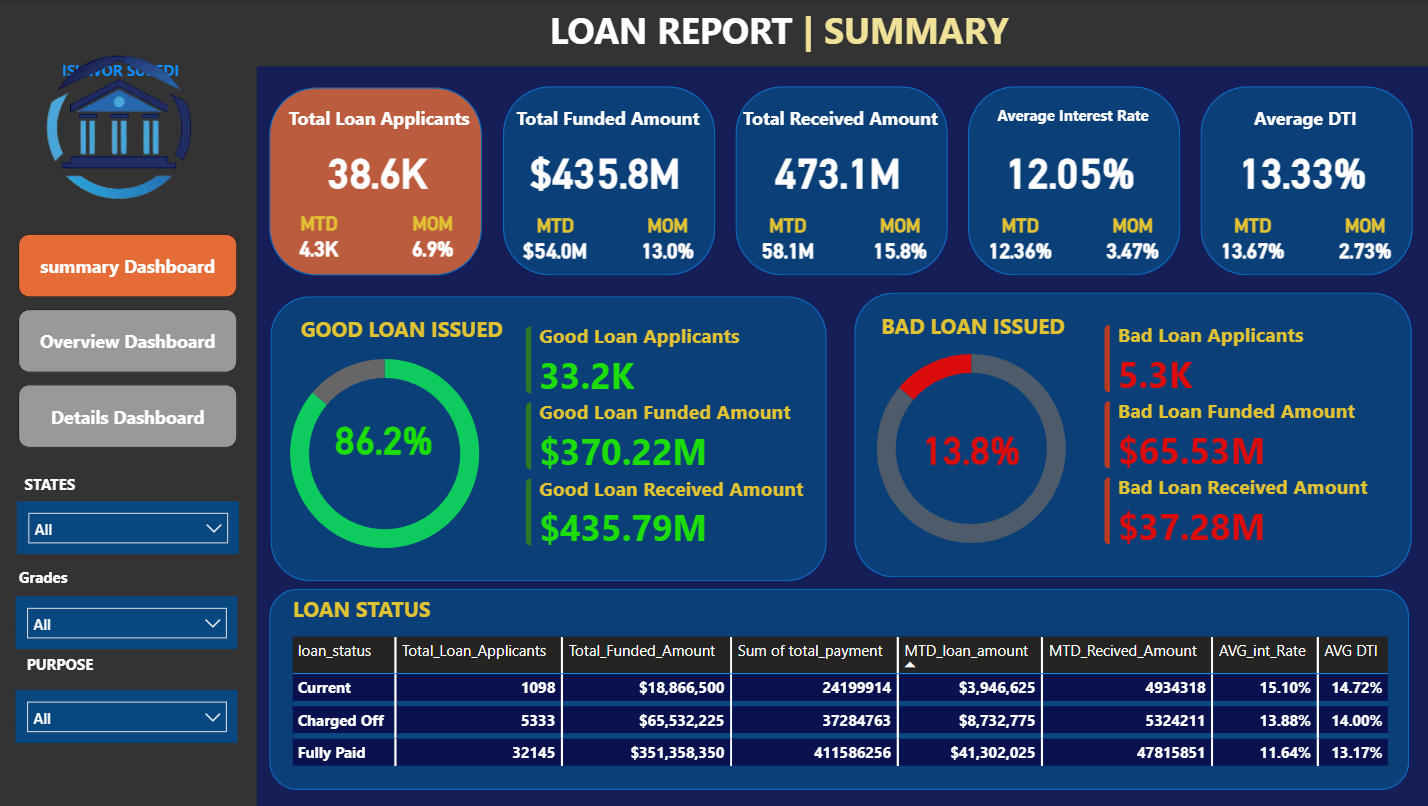

What the dashboard file says about the page in this screenshot:
{"tool":"powerbi","page":{"name":"summary Dashboard","canvas":[1280,720],"ordinal":0},"visuals":[{"type":"shape","box":[0,58.1,231.1,662.2],"z":0},{"type":"shape","box":[450.5,76.5,189.7,169.1],"z":0,"group":"g1"},{"type":"shape","box":[658.4,76.5,189.7,169.1],"z":0,"group":"g2"},{"type":"shape","box":[866.3,76.5,189.7,169.1],"z":0,"group":"g3"},{"type":"shape","box":[1074.2,76.5,189.7,169.1],"z":0,"group":"g4"},{"type":"slicer","fields":{"Values":["loan_data.grade"]},"box":[15.6,532.7,198.8,46.9],"z":0,"group":"g8"},{"type":"shape","box":[0,0,1279.7,59.2],"z":1000},{"type":"shape","box":[242.1,77.7,190,167.9],"z":1000,"group":"g5"},{"type":"card","fields":{"Values":["loan_data.Total_Funded_Amount"]},"box":[467.7,123.2,149,56.7],"z":1000,"group":"g1"},{"type":"card","fields":{"Values":["loan_data.Total Received Amount"]},"box":[675.6,123.2,149,56.7],"z":1000,"group":"g2"},{"type":"card","fields":{"Values":["loan_data.AVG_int_Rate"]},"box":[883.5,123.2,149,56.7],"z":1000,"group":"g3"},{"type":"card","fields":{"Values":["loan_data.AVG DTI"]},"box":[1091.4,123.2,149,56.7],"z":1000,"group":"g4"},{"type":"card","fields":{"Values":["loan_data.good loan %"]},"box":[270.3,362.9,148.8,57],"z":1000,"group":"g6"},{"type":"textbox","box":[5.6,501.4,69.2,31.3],"z":1000,"group":"g8"},{"type":"textbox","box":[449.5,88.9,189.7,38.1],"z":2000,"group":"g1"},{"type":"textbox","box":[657.4,88.9,189.7,38.1],"z":2000,"group":"g2"},{"type":"textbox","box":[865.3,88.9,189.7,38.1],"z":2000,"group":"g3"},{"type":"textbox","box":[1073.2,88.9,189.7,38.1],"z":2000,"group":"g4"},{"type":"card","fields":{"Values":["loan_data.Bad loan %"]},"box":[795.4,372.1,148.8,57],"z":2000,"group":"g7"},{"type":"shape","box":[242.3,525.9,1018.4,179.8],"z":2000},{"type":"card","fields":{"Values":["loan_data.Total_Loan_Applicants"]},"box":[264.4,123.4,149,56.3],"z":3000,"group":"g5"},{"type":"card","title":"MOM","fields":{"Values":["loan_data.MOM_loan_amount"]},"box":[554.7,189.9,86.6,47.4],"z":3000,"group":"g1"},{"type":"card","title":"MOM","fields":{"Values":["loan_data.MOM_Received_Amount"]},"box":[762.6,189.9,86.6,47.4],"z":3000,"group":"g2"},{"type":"card","title":"MOM","fields":{"Values":["loan_data.MOM_int_rate"]},"box":[970.5,189.9,86.6,47.4],"z":3000,"group":"g3"},{"type":"card","title":"MOM","fields":{"Values":["loan_data.MOM_DTI"]},"box":[1178.4,189.9,86.6,47.4],"z":3000,"group":"g4"},{"type":"textbox","box":[230,525.9,189.8,38],"z":3000},{"type":"textbox","box":[488,0,441.1,59.2],"z":4000},{"type":"card","title":"MTD","fields":{"Values":["loan_data.MTD_loan_amount"]},"box":[453.6,189.9,86.6,47.4],"z":4000,"group":"g1"},{"type":"card","title":"MTD","fields":{"Values":["loan_data.MTD_Recived_Amount"]},"box":[661.5,189.9,86.6,47.4],"z":4000,"group":"g2"},{"type":"card","title":"MTD","fields":{"Values":["loan_data.MTD_int_rate"]},"box":[869.4,189.9,86.6,47.4],"z":4000,"group":"g3"},{"type":"card","title":"MTD","fields":{"Values":["loan_data.MTD_DTI"]},"box":[1077.3,189.9,86.6,47.4],"z":4000,"group":"g4"},{"type":"group","id":"g1","title":"Group 1","box":[449.5,76.5,191.8,169.1],"z":5000},{"type":"textbox","box":[230.9,89.3,218.6,38.1],"z":5000,"group":"g5"},{"type":"group","id":"g2","title":"Group 1","box":[657.4,76.5,191.8,169.1],"z":6000},{"type":"card","title":"MTD","fields":{"Values":["loan_data.MTD_LOAN_APPLICANTS"]},"box":[242.9,189.9,86.6,47.4],"z":6000,"group":"g5"},{"type":"textbox","box":[16.7,418.7,59.2,29],"z":6000,"group":"g9"},{"type":"card","title":"MOM","fields":{"Values":["loan_data.MoM_LOAN_APPLICANTS_%"]},"box":[345,189.9,86.6,47.4],"z":7000,"group":"g5"},{"type":"shape","box":[243.4,264.6,496.9,254.6],"z":7000},{"type":"group","id":"g3","title":"Group 1","box":[865.3,76.5,191.8,169.1],"z":8000},{"type":"group","id":"g4","title":"Group 1","box":[1073.2,76.5,191.8,169.1],"z":9000},{"type":"donutChart","fields":{"Category":["loan_data.Good vs Bad loan"],"Y":["loan_data.Total_Loan_Applicants"]},"box":[734.9,290.7,269.8,220.9],"z":9500,"group":"g7"},{"type":"textbox","box":[251.2,275.8,218.9,38],"z":10000},{"type":"donutChart","fields":{"Category":["loan_data.Good vs Bad loan"],"Y":["loan_data.Total_Loan_Applicants"]},"box":[211,294.9,269.1,221.1],"z":10000,"group":"g6"},{"type":"group","id":"g5","title":"Group 2","box":[230.9,77.7,218.6,168],"z":11000},{"type":"shape","box":[764.9,261.3,498,254.6],"z":12000},{"type":"cardVisual","fields":{"Data":["loan_data.Good_loan_Applicants","loan_data.Good_loan_Fundeddamt","loan_data.Good_loan_receivedamt"]},"box":[454.5,274.7,306,231.1],"z":13000},{"type":"group","id":"g6","title":"Group 3","box":[211,294.9,269.1,221.1],"z":14000},{"type":"group","id":"g7","title":"Group 4","box":[734.9,290.7,269.8,220.9],"z":15000},{"type":"cardVisual","fields":{"Data":["loan_data.Bad Loan Applicants","loan_data.Bad Loan Funded Amount","loan_data.Bad Loan Received Amount"]},"box":[971,273.6,290,232],"z":16000},{"type":"tableEx","fields":{"Values":["loan_data.loan_status","loan_data.Total_Loan_Applicants","loan_data.Total_Funded_Amount","Sum(loan_data.total_payment)","loan_data.MTD_loan_amount","loan_data.MTD_Recived_Amount","loan_data.AVG_int_Rate","loan_data.AVG DTI"]},"box":[256.8,563.9,992.7,130.6],"z":17000},{"type":"textbox","box":[770.5,273.6,201,41.3],"z":18000},{"type":"group","id":"g8","title":"Group 5","box":[5.6,501.4,208.8,78.2],"z":19000},{"type":"group","id":"g9","title":"Group 6","box":[16.7,418.7,198.8,77],"z":20000},{"type":"slicer","fields":{"Values":["loan_data.address_state"]},"box":[16.7,447.7,198.8,46.9],"z":20000,"group":"g9"},{"type":"slicer","fields":{"Values":["loan_data.purpose"]},"box":[15.6,616.4,198.8,46.9],"z":21000},{"type":"textbox","box":[0,579.5,110.5,36.8],"z":22000},{"type":"pageNavigator","box":[17.9,208.8,196.5,192.1],"z":23000},{"type":"textbox","box":[16.7,49.1,185.4,40.2],"z":23500},{"type":"image","box":[2.2,14.5,212.2,198.8],"z":24000}]}

Visuals, with their boxes in screenshot pixels (x1, y1, x2, y2), scaled from the page's 1280x720 canvas onto the 1428x806 screenshot:
shape: select_region(0, 65, 258, 805)
shape: select_region(503, 86, 714, 275)
shape: select_region(735, 86, 946, 275)
shape: select_region(966, 86, 1178, 275)
shape: select_region(1198, 86, 1410, 275)
slicer - loan_data.grade: select_region(17, 596, 239, 649)
shape: select_region(0, 0, 1427, 66)
shape: select_region(270, 87, 482, 275)
card - loan_data.Total_Funded_Amount: select_region(522, 138, 688, 201)
card - loan_data.Total Received Amount: select_region(754, 138, 920, 201)
card - loan_data.AVG_int_Rate: select_region(986, 138, 1152, 201)
card - loan_data.AVG DTI: select_region(1218, 138, 1384, 201)
card - loan_data.good loan %: select_region(302, 406, 468, 470)
textbox: select_region(6, 561, 83, 596)
textbox: select_region(501, 100, 713, 142)
textbox: select_region(733, 100, 945, 142)
textbox: select_region(965, 100, 1177, 142)
textbox: select_region(1197, 100, 1409, 142)
card - loan_data.Bad loan %: select_region(887, 417, 1053, 480)
shape: select_region(270, 589, 1406, 790)
card - loan_data.Total_Loan_Applicants: select_region(295, 138, 461, 201)
"MOM" card: select_region(619, 213, 715, 266)
"MOM" card: select_region(851, 213, 947, 266)
"MOM" card: select_region(1083, 213, 1179, 266)
"MOM" card: select_region(1315, 213, 1411, 266)
textbox: select_region(257, 589, 468, 631)
textbox: select_region(544, 0, 1037, 66)
"MTD" card: select_region(506, 213, 603, 266)
"MTD" card: select_region(738, 213, 835, 266)
"MTD" card: select_region(970, 213, 1067, 266)
"MTD" card: select_region(1202, 213, 1298, 266)
"Group 1" group: select_region(501, 86, 715, 275)
textbox: select_region(258, 100, 501, 143)
"Group 1" group: select_region(733, 86, 947, 275)
"MTD" card: select_region(271, 213, 368, 266)
textbox: select_region(19, 469, 85, 501)
"MOM" card: select_region(385, 213, 482, 266)
shape: select_region(272, 296, 826, 581)
"Group 1" group: select_region(965, 86, 1179, 275)
"Group 1" group: select_region(1197, 86, 1411, 275)
donutChart - loan_data.Good vs Bad loan x loan_data.Total_Loan_Applicants: select_region(820, 325, 1121, 573)
textbox: select_region(280, 309, 524, 351)
donutChart - loan_data.Good vs Bad loan x loan_data.Total_Loan_Applicants: select_region(235, 330, 536, 578)
"Group 2" group: select_region(258, 87, 501, 275)
shape: select_region(853, 293, 1409, 578)
cardVisual - loan_data.Good_loan_Applicants x loan_data.Good_loan_Fundeddamt: select_region(507, 308, 848, 566)
"Group 3" group: select_region(235, 330, 536, 578)
"Group 4" group: select_region(820, 325, 1121, 573)
cardVisual - loan_data.Bad Loan Applicants x loan_data.Bad Loan Funded Amount: select_region(1083, 306, 1407, 566)
tableEx - loan_data.loan_status x loan_data.Total_Loan_Applicants: select_region(286, 631, 1394, 777)
textbox: select_region(860, 306, 1084, 353)
"Group 5" group: select_region(6, 561, 239, 649)
"Group 6" group: select_region(19, 469, 240, 555)
slicer - loan_data.address_state: select_region(19, 501, 240, 554)
slicer - loan_data.purpose: select_region(17, 690, 239, 743)
textbox: select_region(0, 649, 123, 690)
pageNavigator: select_region(20, 234, 239, 449)
textbox: select_region(19, 55, 225, 100)
image: select_region(2, 16, 239, 239)
